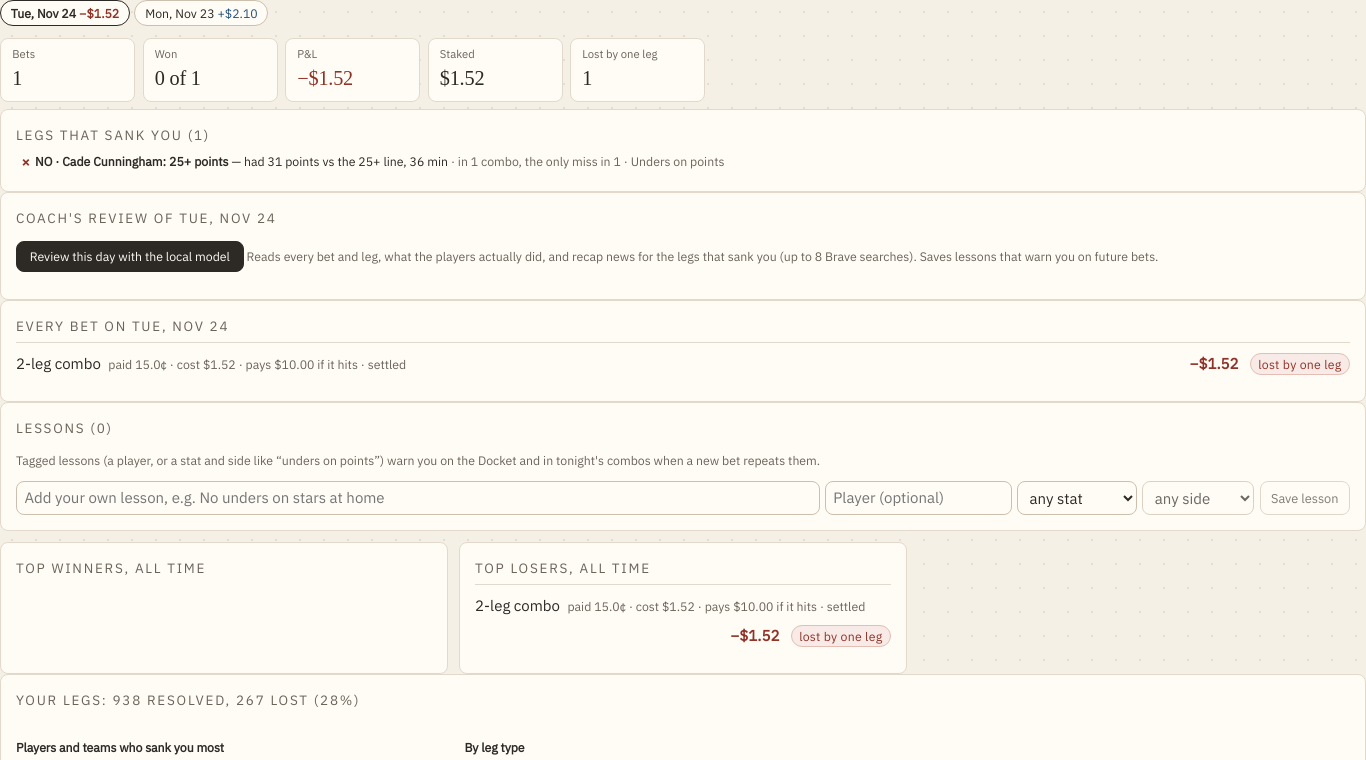
Test: <DailyReview> › shows the day's bets, what each player did, the legs that sank you, and the model's lessons
Expected: the text "— had 31 points vs the 25+ line, 36 min" is shown, [228,153,448,169]
Expected: the text "· in 1 combo, the only miss in 1 · Unders on points" is shown, [448,153,724,169]
Click the button "Review this day with the local model": (130, 256) [16,241,244,272]
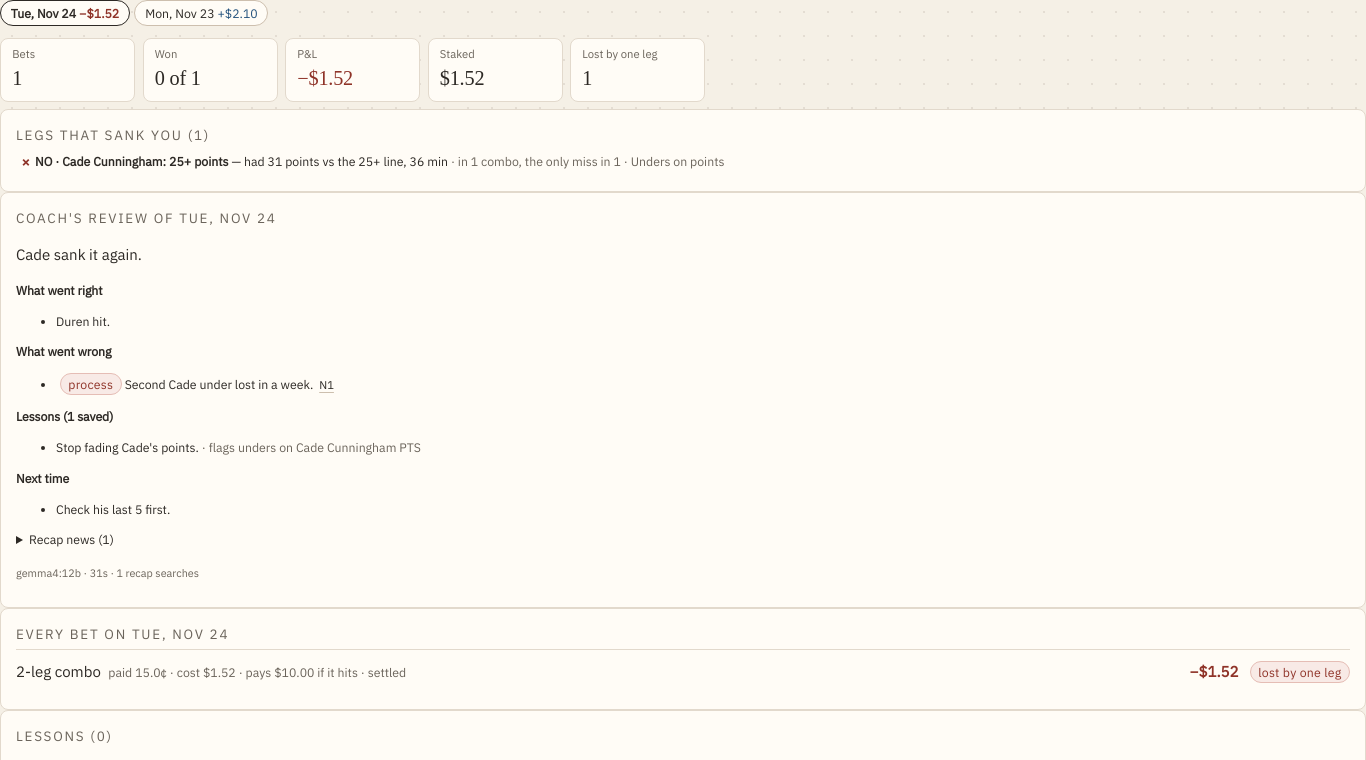
Expected: the text "Cade sank it again." is shown, [16,244,142,264]
Expected: the text "· flags unders on Cade Cunningham PTS" is shown, [199,439,421,455]
